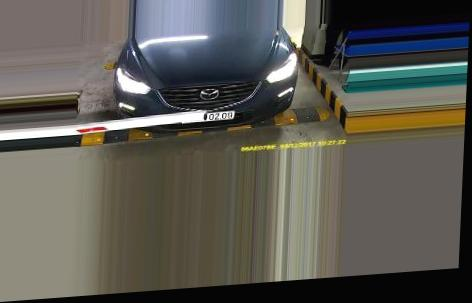License_Plate: (184, 107, 235, 129)
